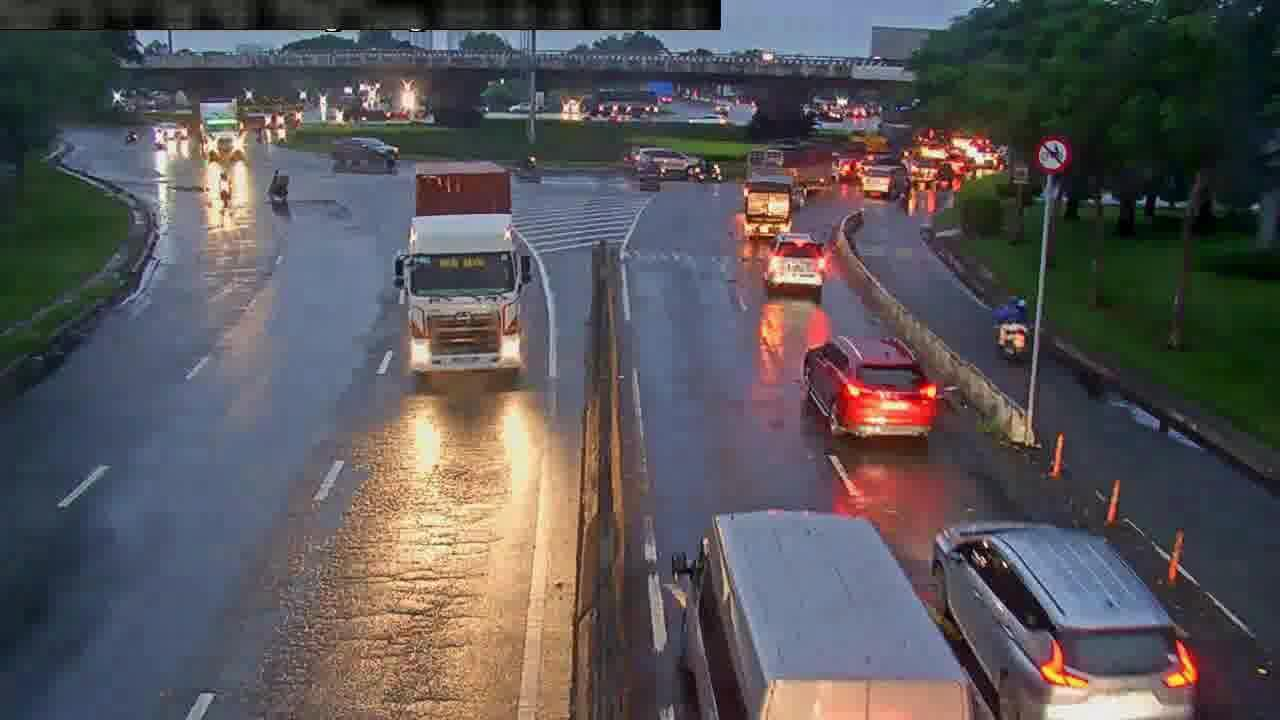14: (672, 510, 939, 716)
8: (406, 161, 526, 384), (747, 143, 843, 193), (192, 96, 250, 156), (739, 174, 790, 238)
container: (930, 525, 1200, 720), (800, 336, 938, 439), (762, 231, 830, 299), (621, 139, 701, 176), (856, 161, 915, 204), (326, 135, 399, 167)
motorbike: (995, 293, 1030, 364), (266, 169, 292, 201), (510, 148, 540, 172), (216, 166, 232, 210)
